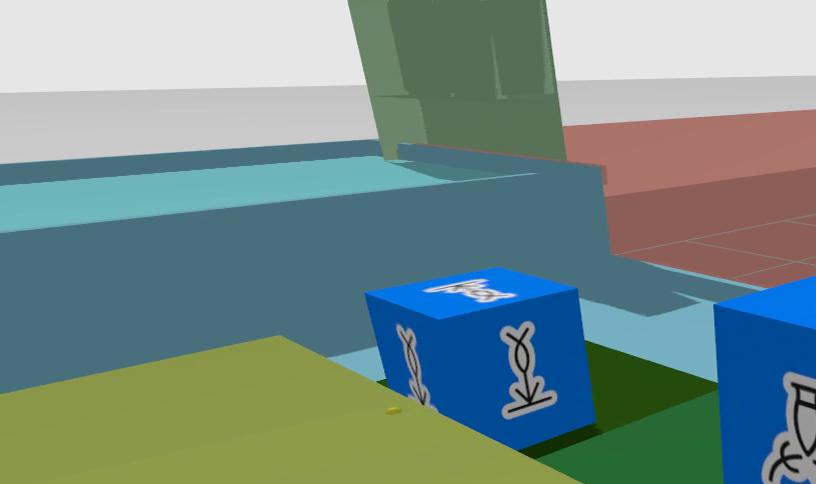KFS_REAL: (365, 267, 594, 448), (715, 275, 816, 484), (761, 373, 816, 484), (500, 321, 557, 419)
